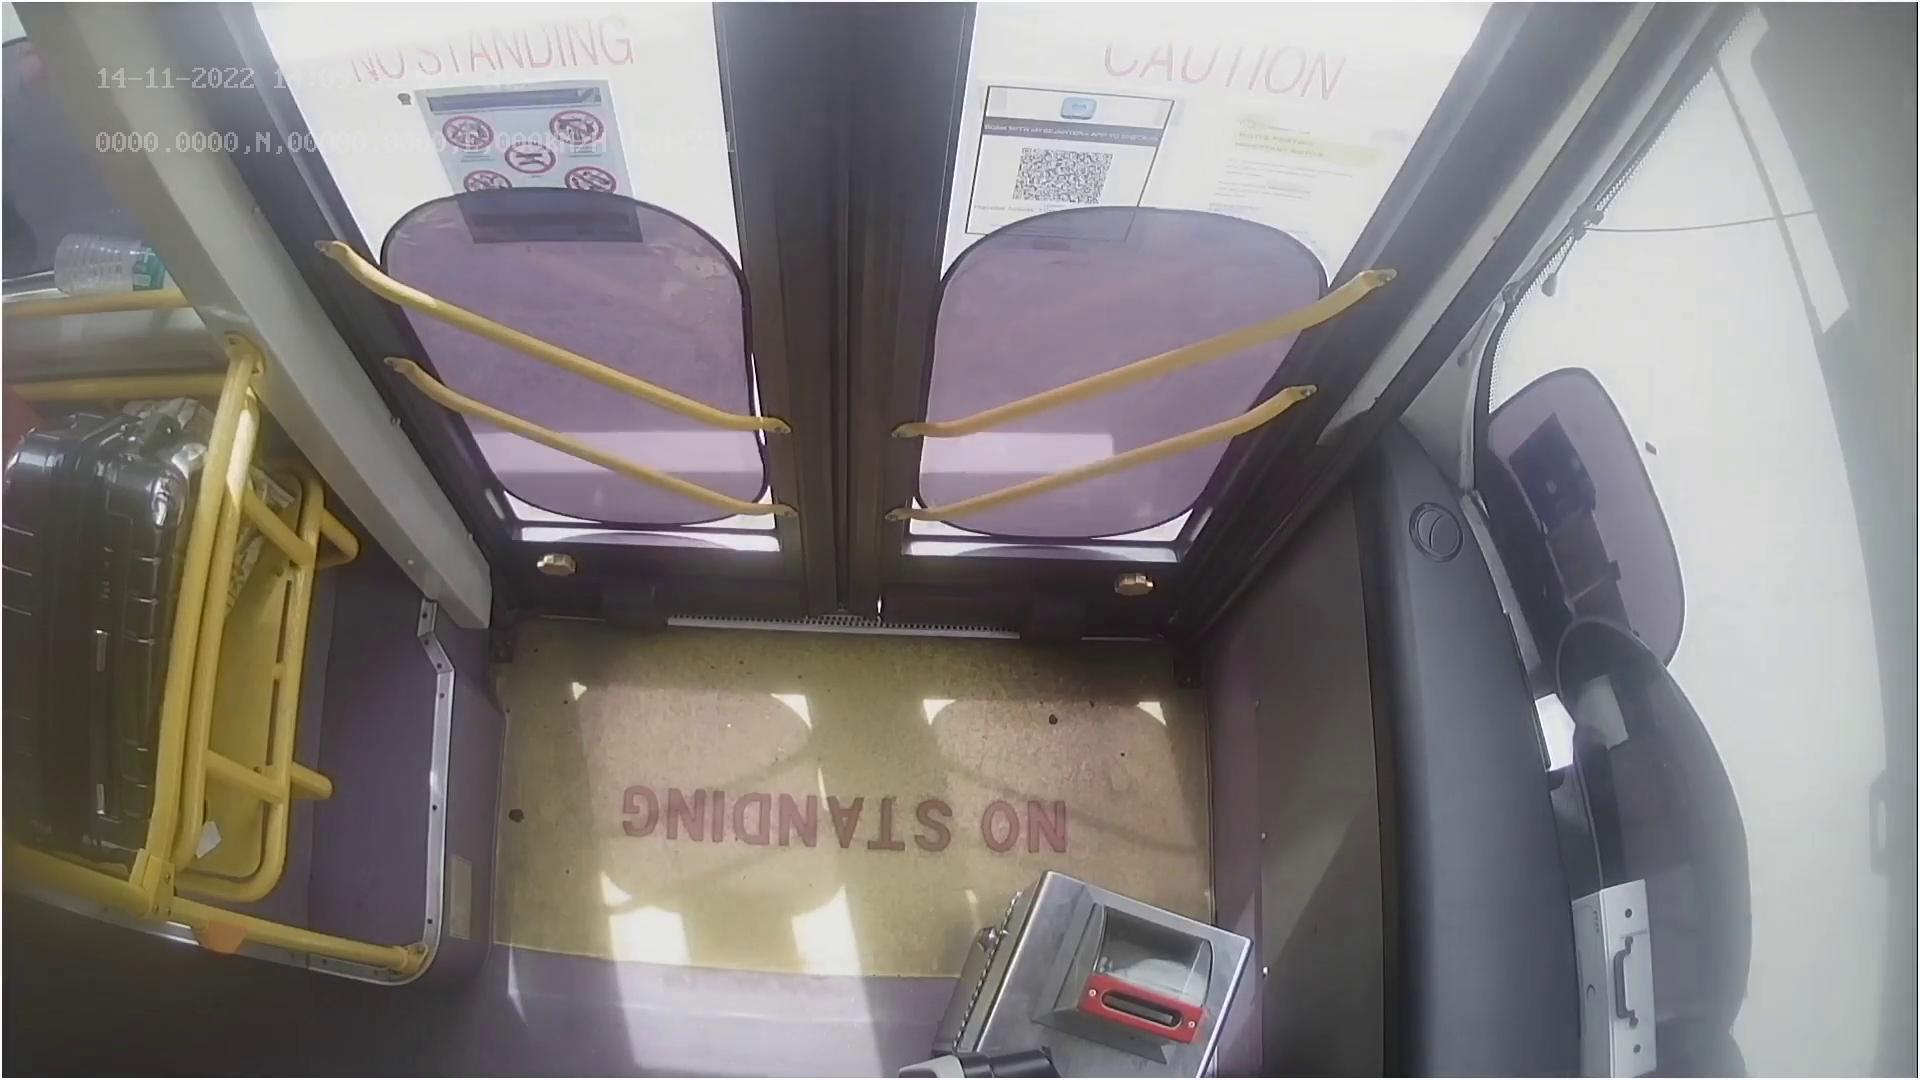close: (282, 0, 1440, 165)
